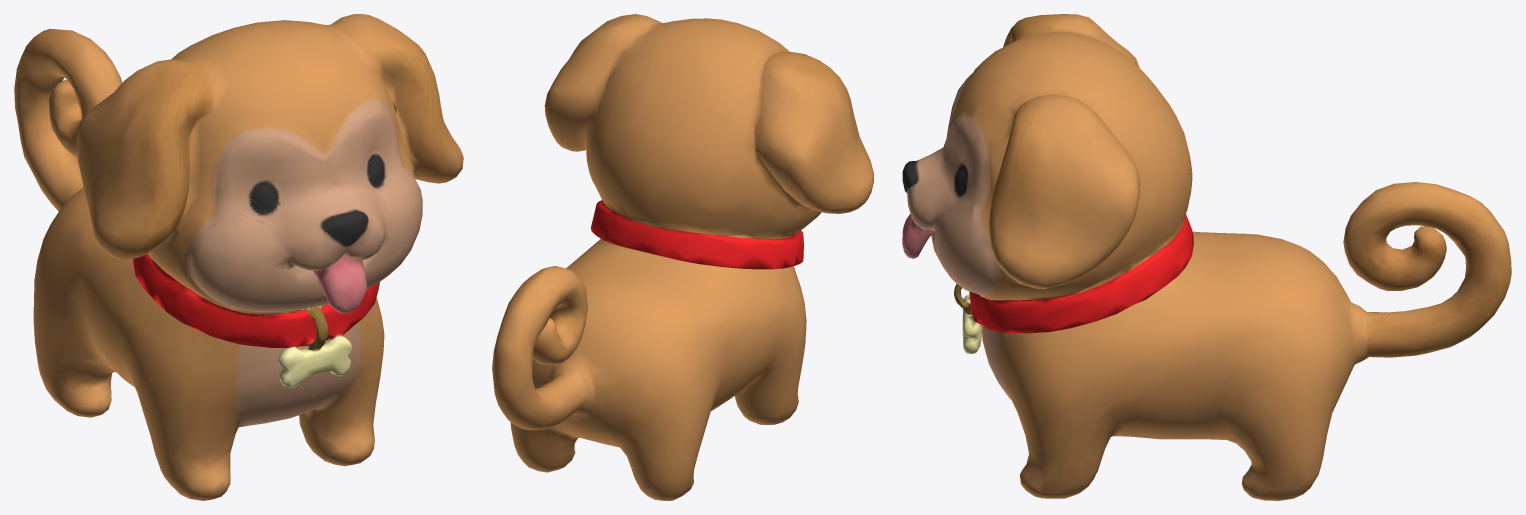
Rendered from puppuchin.glb.
3 renders of one model, left to right at view 1: azimuth 30°, elevation 25°; view 2: azimuth 150°, elevation 25°; view 3: azimuth 270°, elevation 25°, orthographic. The views are drawn at different scales.
Parts seen in each view (by area): view 1: world; view 2: world; view 3: world.
Part boxes in pixels (box(x1,y1,x2,y2)): world: box(14, 14, 463, 500); world: box(492, 14, 873, 500); world: box(902, 14, 1511, 500).
Size of the model in its own units: 0.6269 by 0.7521 by 0.9998.
1 material, 1 textured.
